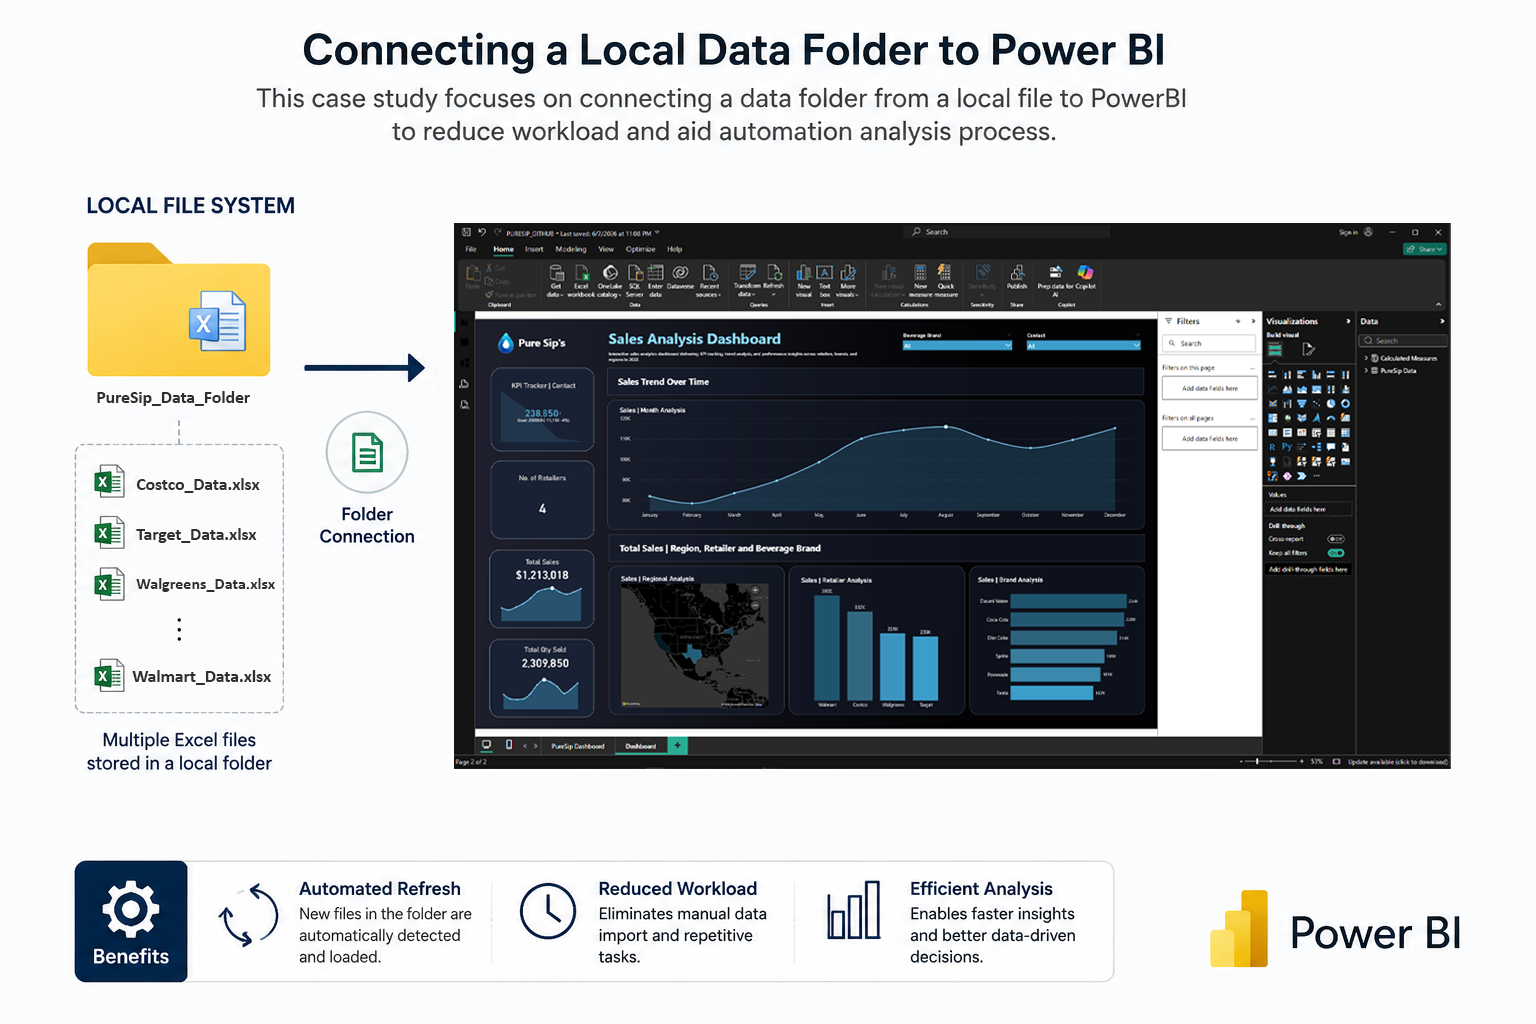

What the dashboard file says about the page in this screenshot:
{"tool":"powerbi","page":{"name":"Dashboard","canvas":[2500,1500],"ordinal":1},"visuals":[{"type":"shape","box":[58.9,178.6,378,305.9],"z":0},{"type":"shape","box":[58.9,518.4,378,286.9],"z":1000},{"type":"shape","box":[53.2,845.2,383.7,286.9],"z":2000},{"type":"shape","box":[484.4,296.4,1970,474.9],"z":3000},{"type":"shape","box":[1810.4,904.3,644,545.2],"z":4000},{"type":"shape","box":[1149.3,904.3,644,545.2],"z":5000},{"type":"shape","box":[490.1,904.3,644,545.2],"z":6000},{"type":"shape","box":[53.2,1172.1,383.7,286.9],"z":7000},{"type":"filledMap","title":"Sales | Regional Analysis","fields":{"Category":["PureSip Data.State"]},"box":[530,936.6,550.9,492],"z":8000},{"type":"clusteredBarChart","title":"Sales | Brand Analysis","fields":{"Y":["Sum(PureSip Data.Sales)"],"Category":["PureSip Data.Beverage Brand"]},"box":[1837,940.3,596.5,488.2],"z":9000},{"type":"clusteredColumnChart","title":"Sales | Retailer Analysis","fields":{"Category":["PureSip Data.Retailer"],"Y":["Sum(PureSip Data.Sales)"]},"box":[1189.2,942.2,564.2,492],"z":10000},{"type":"stackedAreaChart","title":"Sales | Month Analysis","fields":{"Category":["PureSip Data.Order Date.Variation.Date Hierarchy.Month"],"Y":["Sum(PureSip Data.Sales)"]},"box":[524.3,319.1,1886.4,419.8],"z":11000},{"type":"card","title":"Total Qty Sold","fields":{"Values":["Calculated Measures.Total Qty Sold"]},"box":[112.1,1194.9,290.7,93.1],"z":12000},{"type":"card","title":"Total Sales","fields":{"Values":["Calculated Measures.Total Sales"]},"box":[100.7,873.7,290.7,91.2],"z":13000},{"type":"card","title":"No. of Retailers","fields":{"Values":["Calculated Measures.No of Retailers"]},"box":[85.5,565.9,322.9,212.8],"z":14000},{"type":"kpi","title":"KPI Tracker | Contact","fields":{"Indicator":["Sum(PureSip Data.Sales)"],"TrendLine":["PureSip Data.Contact"],"Goal":["Calculated Measures.Target"]},"box":[89.3,228,322.9,228],"z":15000},{"type":"areaChart","fields":{"Y":["Calculated Measures.Total Sales"],"Category":["PureSip Data.Order Date.Variation.Date Hierarchy.Month"]},"box":[81.7,963.1,322.9,148.2],"z":16000},{"type":"areaChart","fields":{"Y":["Calculated Measures.Total Qty Sold"],"Category":["PureSip Data.Order Date.Variation.Date Hierarchy.Month"]},"box":[89.3,1288,302.1,146.3],"z":17000},{"type":"slicer","fields":{"Values":["PureSip Data.Contact"]},"box":[2009.9,43.7,438.8,100.7],"z":18000},{"type":"shape","box":[490.1,788.2,1964.3,100.7],"z":19000},{"type":"textbox","box":[524.3,811,1318.4,55.1],"z":20000},{"type":"shape","box":[484.6,178.6,1964.3,100.7],"z":21000},{"type":"textbox","box":[518.8,201.4,1318.4,55.1],"z":22000},{"type":"slicer","fields":{"Values":["PureSip Data.Beverage Brand"]},"box":[1555.9,43.7,421.7,115.9],"z":23000},{"type":"textbox","box":[153.9,55.1,207.1,74.1],"z":24000},{"type":"textbox","box":[484.4,28.5,911.9,83.6],"z":25000},{"type":"textbox","box":[484.4,110.2,947.9,58.9],"z":26000},{"type":"image","box":[58.9,43.7,108.3,89.3],"z":27000}]}

Visuals, with their boxes on the page's 2500x1500 design canvas (x1, y1, x2, y2). These are canvas units, not pixel positions in the 1536x1024 screenshot, which may show the page scaled, cropped or inside an application window:
shape: 59 179 437 484
shape: 59 518 437 805
shape: 53 845 437 1132
shape: 484 296 2454 771
shape: 1810 904 2454 1450
shape: 1149 904 1793 1450
shape: 490 904 1134 1450
shape: 53 1172 437 1459
"Sales | Regional Analysis" filledMap: 530 937 1081 1429
"Sales | Brand Analysis" clusteredBarChart: 1837 940 2434 1428
"Sales | Retailer Analysis" clusteredColumnChart: 1189 942 1753 1434
"Sales | Month Analysis" stackedAreaChart: 524 319 2411 739
"Total Qty Sold" card: 112 1195 403 1288
"Total Sales" card: 101 874 391 965
"No. of Retailers" card: 86 566 408 779
"KPI Tracker | Contact" kpi: 89 228 412 456
areaChart - Calculated Measures.Total Sales x PureSip Data.Order Date.Variation.Date Hierarchy.Month: 82 963 405 1111
areaChart - Calculated Measures.Total Qty Sold x PureSip Data.Order Date.Variation.Date Hierarchy.Month: 89 1288 391 1434
slicer - PureSip Data.Contact: 2010 44 2449 144
shape: 490 788 2454 889
textbox: 524 811 1843 866
shape: 485 179 2449 279
textbox: 519 201 1837 256
slicer - PureSip Data.Beverage Brand: 1556 44 1978 160
textbox: 154 55 361 129
textbox: 484 28 1396 112
textbox: 484 110 1432 169
image: 59 44 167 133
